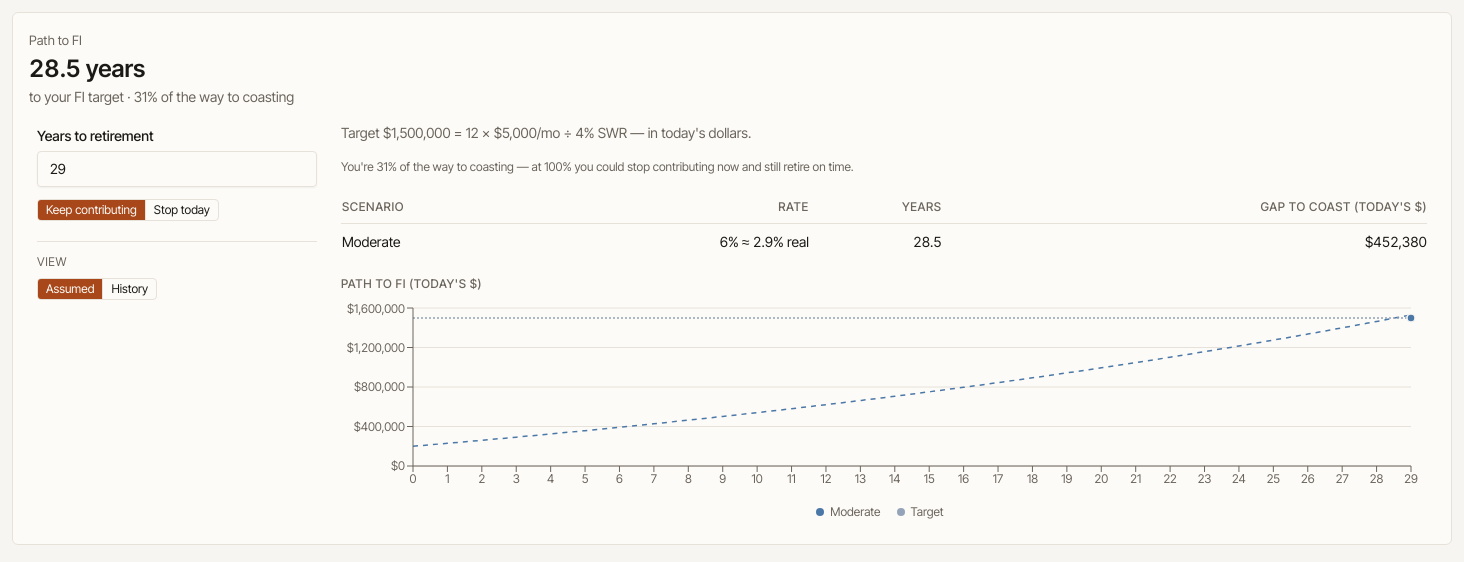
Scenario: PathToFiCard — Stop today (Coast mode) › review fix 4: STOP mode Years is the ZERO-contribution solve (kills a KEEP-solve swap)
Click the button "Stop today". click: (181, 210)
box: [145, 200, 218, 220]
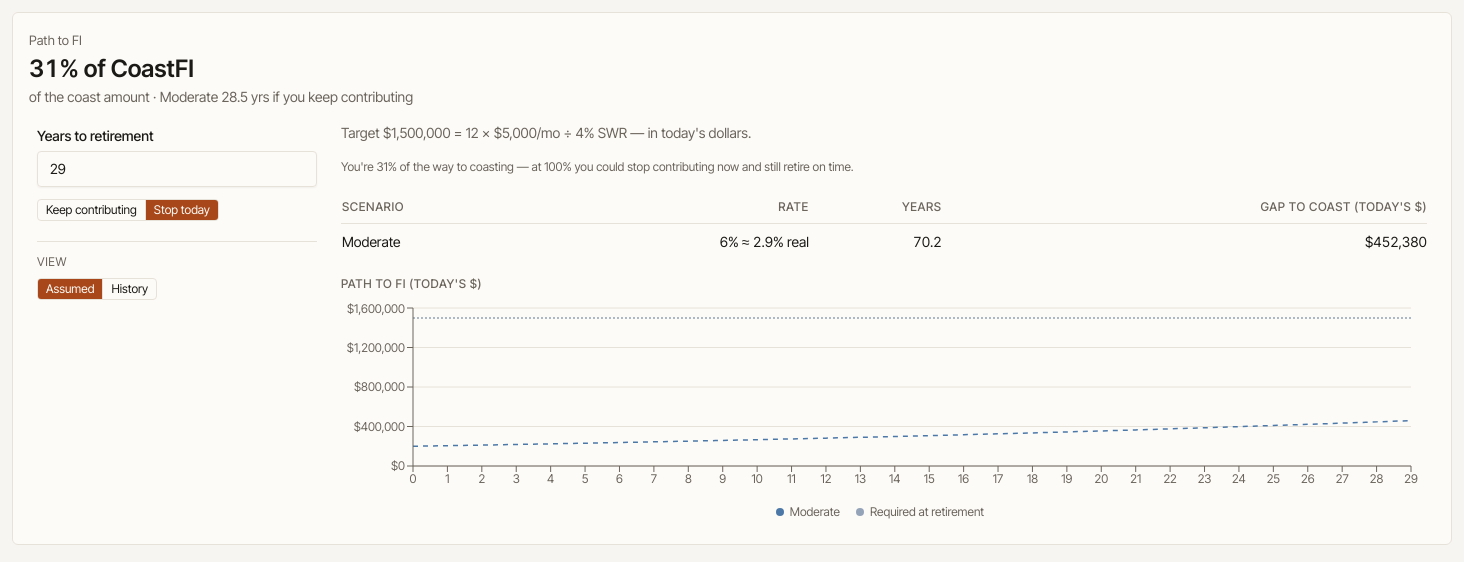
expect the text "70.2" is shown: met, box [809, 223, 942, 260]
